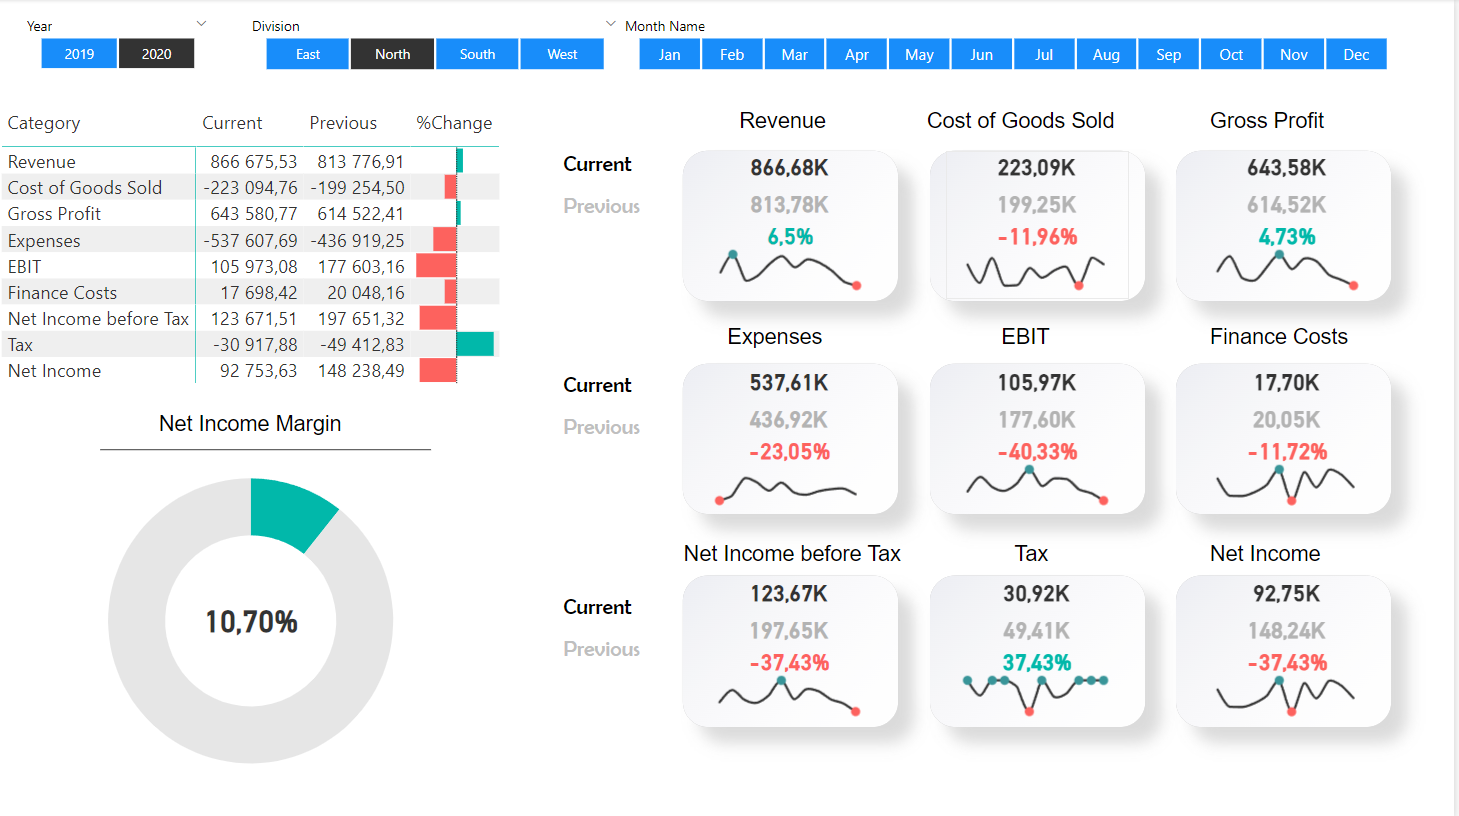

This screenshot's page, from the dashboard's own definition file:
{"tool":"powerbi","page":{"name":"Page 1","canvas":[1280,720],"ordinal":0},"visuals":[{"type":"pivotTable","fields":{"Values":["Journal.Current","Journal.Previous","Journal.%Change"],"Rows":["Layout.Category"]},"box":[0,91.4,480.5,280.1],"z":0},{"type":"card","fields":{"Values":["Journal.Revenue Current"]},"box":[617.6,133.3,158.5,28.2],"z":0,"group":"g1"},{"type":"card","fields":{"Values":["Journal.Gross Profit Current"]},"box":[1053.7,133.5,158.5,28.2],"z":0,"group":"g7"},{"type":"card","fields":{"Values":["Journal.Finance Costs Current"]},"box":[1053.3,322.1,158.4,28.3],"z":0,"group":"g8"},{"type":"card","fields":{"Values":["Journal.Expenses Current"]},"box":[616.4,322.2,158.5,28.2],"z":0,"group":"g2"},{"type":"card","fields":{"Values":["Journal.EBIT Current"]},"box":[834.1,322.2,158.5,28.2],"z":0,"group":"g5"},{"type":"card","fields":{"Values":["Journal.Net Income Current"]},"box":[1053.3,507.3,158.4,28.3],"z":0,"group":"g9"},{"type":"card","fields":{"Values":["Journal.Net Income before Tax Current"]},"box":[616.4,507.5,158.5,28.2],"z":0,"group":"g3"},{"type":"card","fields":{"Values":["Journal.Tax Current"]},"box":[834.1,507.5,158.5,28.2],"z":0,"group":"g4"},{"type":"slicer","fields":{"Values":["Calendar2.Year"]},"box":[13.6,9.7,183.8,58.4],"z":1000},{"type":"card","fields":{"Values":["Journal.Costs of Goods Sold Current"]},"box":[834.1,133.5,158.5,28.2],"z":1000,"group":"g6"},{"type":"card","fields":{"Values":["Journal.Revenue Previous"]},"box":[617.6,165.4,158.5,28.2],"z":1000,"group":"g1"},{"type":"card","fields":{"Values":["Journal.Gross Profit Previous"]},"box":[1053.7,165.6,158.5,28.2],"z":1000,"group":"g7"},{"type":"card","fields":{"Values":["Journal.Expenses Previous"]},"box":[616.4,354.3,158.5,28.2],"z":1000,"group":"g2"},{"type":"card","fields":{"Values":["Journal.EBIT Previous"]},"box":[834.1,354.3,158.5,28.2],"z":1000,"group":"g5"},{"type":"card","fields":{"Values":["Journal.Finance Costs Previous"]},"box":[1053.3,354.3,158.4,28.3],"z":1000,"group":"g8"},{"type":"card","fields":{"Values":["Journal.Net Income Previous"]},"box":[1053.3,539.5,158.4,28.3],"z":1000,"group":"g9"},{"type":"card","fields":{"Values":["Journal.Net Income before Tax Previous"]},"box":[616.4,539.6,158.5,28.2],"z":1000,"group":"g3"},{"type":"card","fields":{"Values":["Journal.Tax Previous"]},"box":[834.1,539.6,158.5,28.2],"z":1000,"group":"g4"},{"type":"card","fields":{"Values":["Journal.Cost of Goods Sold Previous"]},"box":[834.1,165.6,158.5,28.2],"z":2000,"group":"g6"},{"type":"card","fields":{"Values":["Journal.Revenue % Change"]},"box":[618.6,193.6,158.5,28.2],"z":2000,"group":"g1"},{"type":"card","fields":{"Values":["Journal.Gross Profit % Change"]},"box":[1054.7,193.8,158.5,28.2],"z":2000,"group":"g7"},{"type":"card","fields":{"Values":["Journal.Expenses % Change"]},"box":[617.4,382.5,158.5,28.2],"z":2000,"group":"g2"},{"type":"card","fields":{"Values":["Journal.EBIT % Change"]},"box":[835.1,382.5,158.5,28.2],"z":2000,"group":"g5"},{"type":"card","fields":{"Values":["Journal.Finance Costs % Change"]},"box":[1054.3,382.6,158.4,28.3],"z":2000,"group":"g8"},{"type":"donutChart","fields":{"Y":["Journal.Net Income Margin","Journal.Inv Net Margin"]},"box":[28.2,384.2,391,322.9],"z":2000},{"type":"card","fields":{"Values":["Journal.Net Income before Tax % Change"]},"box":[617.4,567.8,158.5,28.2],"z":2000,"group":"g3"},{"type":"card","fields":{"Values":["Journal.Tax % Change"]},"box":[835.1,567.8,158.5,28.2],"z":2000,"group":"g4"},{"type":"card","fields":{"Values":["Journal.Net Income % Change"]},"box":[1054.3,567.8,158.4,28.3],"z":2000,"group":"g9"},{"type":"PBI_CV_25997FEB_F466_44FA_B562_AC4063283C4C","fields":{"measure":["Journal.Revenue"],"axis":["Calendar2.Month Name"]},"box":[618.6,207.2,159.5,55.4],"z":3000,"group":"g1"},{"type":"PBI_CV_25997FEB_F466_44FA_B562_AC4063283C4C","fields":{"measure":["Journal.Gross Profit"],"axis":["Calendar2.Month Name"]},"box":[1054.7,207.4,159.5,55.4],"z":3000,"group":"g7"},{"type":"PBI_CV_25997FEB_F466_44FA_B562_AC4063283C4C","fields":{"measure":["Journal.Expenses"],"axis":["Calendar2.Month Name"]},"box":[617.4,396.1,159.5,55.4],"z":3000,"group":"g2"},{"type":"PBI_CV_25997FEB_F466_44FA_B562_AC4063283C4C","fields":{"measure":["Journal.EBIT"],"axis":["Calendar2.Month Name"]},"box":[835.1,396.1,159.5,55.4],"z":3000,"group":"g5"},{"type":"PBI_CV_25997FEB_F466_44FA_B562_AC4063283C4C","fields":{"measure":["Journal.Finance Costs"],"axis":["Calendar2.Month Name"]},"box":[1054.3,396.2,159.4,55.6],"z":3000,"group":"g8"},{"type":"card","fields":{"Values":["Journal.Net Income Margin"]},"box":[152.7,507.7,142,74.9],"z":3000},{"type":"PBI_CV_25997FEB_F466_44FA_B562_AC4063283C4C","fields":{"measure":["Journal.Net Income before Tax"],"axis":["Calendar2.Month Name"]},"box":[617.4,581.4,159.5,55.4],"z":3000,"group":"g3"},{"type":"PBI_CV_25997FEB_F466_44FA_B562_AC4063283C4C","fields":{"measure":["Journal.TAX"],"axis":["Calendar2.Month Name"]},"box":[835.1,581.4,159.5,55.4],"z":3000,"group":"g4"},{"type":"PBI_CV_25997FEB_F466_44FA_B562_AC4063283C4C","fields":{"measure":["Journal.Finance Costs"],"axis":["Calendar2.Month Name"]},"box":[1054.3,581.4,159.4,55.6],"z":3000,"group":"g9"},{"type":"group","id":"g1","title":"Group 1","box":[617.6,133.3,160.5,129.4],"z":4000},{"type":"card","fields":{"Values":["Journal.Cost of Goods Sold % Change"]},"box":[835.1,193.8,158.5,28.2],"z":4000,"group":"g6"},{"type":"group","id":"g2","title":"Group 1","box":[616.4,322.2,160.7,129.1],"z":5000},{"type":"PBI_CV_25997FEB_F466_44FA_B562_AC4063283C4C","fields":{"axis":["Calendar2.Month Name"],"measure":["Journal.Cost of Goods Sold"]},"box":[835.1,207.4,159.5,55.4],"z":6000,"group":"g6"},{"type":"group","id":"g3","title":"Group 1","box":[616.4,507.5,160.7,129.1],"z":6000},{"type":"group","id":"g4","title":"Group 1","box":[834.1,507.5,160.7,129.1],"z":7000},{"type":"group","id":"g5","title":"Group 1","box":[834.1,322.2,160.7,129.1],"z":8000},{"type":"group","id":"g6","title":"Group 2","box":[834.1,133.5,160.7,130],"z":9000},{"type":"group","id":"g7","title":"Group 1","box":[1053.7,133.5,160.7,129.1],"z":10000},{"type":"group","id":"g8","title":"Group 1","box":[1053.3,322.1,160.6,129.4],"z":11000},{"type":"group","id":"g9","title":"Group 1","box":[1053.3,507.3,160.6,129.4],"z":12000},{"type":"slicer","fields":{"Values":["Division.Division"]},"box":[211.6,9.4,345.7,58.6],"z":13000},{"type":"slicer","fields":{"Values":["Calendar2.Month Name"]},"box":[539.4,9.4,705.7,58.6],"z":14000}]}

Visuals, with their boxes in screenshot pixels (x1, y1, x2, y2), scaled from the page's 1280x720 canvas onto the 1459x816 screenshot:
pivotTable - Journal.Current x Journal.Previous: box=[0, 104, 548, 421]
card - Journal.Revenue Current: box=[704, 151, 885, 183]
card - Journal.Gross Profit Current: box=[1201, 151, 1382, 183]
card - Journal.Finance Costs Current: box=[1201, 365, 1381, 397]
card - Journal.Expenses Current: box=[703, 365, 883, 397]
card - Journal.EBIT Current: box=[951, 365, 1131, 397]
card - Journal.Net Income Current: box=[1201, 575, 1381, 607]
card - Journal.Net Income before Tax Current: box=[703, 575, 883, 607]
card - Journal.Tax Current: box=[951, 575, 1131, 607]
slicer - Calendar2.Year: box=[16, 11, 225, 77]
card - Journal.Costs of Goods Sold Current: box=[951, 151, 1131, 183]
card - Journal.Revenue Previous: box=[704, 187, 885, 219]
card - Journal.Gross Profit Previous: box=[1201, 188, 1382, 220]
card - Journal.Expenses Previous: box=[703, 402, 883, 434]
card - Journal.EBIT Previous: box=[951, 402, 1131, 434]
card - Journal.Finance Costs Previous: box=[1201, 402, 1381, 434]
card - Journal.Net Income Previous: box=[1201, 611, 1381, 644]
card - Journal.Net Income before Tax Previous: box=[703, 612, 883, 644]
card - Journal.Tax Previous: box=[951, 612, 1131, 644]
card - Journal.Cost of Goods Sold Previous: box=[951, 188, 1131, 220]
card - Journal.Revenue % Change: box=[705, 219, 886, 251]
card - Journal.Gross Profit % Change: box=[1202, 220, 1383, 252]
card - Journal.Expenses % Change: box=[704, 434, 884, 465]
card - Journal.EBIT % Change: box=[952, 434, 1133, 465]
card - Journal.Finance Costs % Change: box=[1202, 434, 1382, 466]
donutChart - Journal.Net Income Margin x Journal.Inv Net Margin: box=[32, 435, 478, 801]
card - Journal.Net Income before Tax % Change: box=[704, 644, 884, 675]
card - Journal.Tax % Change: box=[952, 644, 1133, 675]
card - Journal.Net Income % Change: box=[1202, 644, 1382, 676]
PBI_CV_25997FEB_F466_44FA_B562_AC4063283C4C - Journal.Revenue x Calendar2.Month Name: box=[705, 235, 887, 298]
PBI_CV_25997FEB_F466_44FA_B562_AC4063283C4C - Journal.Gross Profit x Calendar2.Month Name: box=[1202, 235, 1384, 298]
PBI_CV_25997FEB_F466_44FA_B562_AC4063283C4C - Journal.Expenses x Calendar2.Month Name: box=[704, 449, 886, 512]
PBI_CV_25997FEB_F466_44FA_B562_AC4063283C4C - Journal.EBIT x Calendar2.Month Name: box=[952, 449, 1134, 512]
PBI_CV_25997FEB_F466_44FA_B562_AC4063283C4C - Journal.Finance Costs x Calendar2.Month Name: box=[1202, 449, 1383, 512]
card - Journal.Net Income Margin: box=[174, 575, 336, 660]
PBI_CV_25997FEB_F466_44FA_B562_AC4063283C4C - Journal.Net Income before Tax x Calendar2.Month Name: box=[704, 659, 886, 722]
PBI_CV_25997FEB_F466_44FA_B562_AC4063283C4C - Journal.TAX x Calendar2.Month Name: box=[952, 659, 1134, 722]
PBI_CV_25997FEB_F466_44FA_B562_AC4063283C4C - Journal.Finance Costs x Calendar2.Month Name: box=[1202, 659, 1383, 722]
"Group 1" group: box=[704, 151, 887, 298]
card - Journal.Cost of Goods Sold % Change: box=[952, 220, 1133, 252]
"Group 1" group: box=[703, 365, 886, 511]
PBI_CV_25997FEB_F466_44FA_B562_AC4063283C4C - Calendar2.Month Name x Journal.Cost of Goods Sold: box=[952, 235, 1134, 298]
"Group 1" group: box=[703, 575, 886, 721]
"Group 1" group: box=[951, 575, 1134, 721]
"Group 1" group: box=[951, 365, 1134, 511]
"Group 2" group: box=[951, 151, 1134, 299]
"Group 1" group: box=[1201, 151, 1384, 298]
"Group 1" group: box=[1201, 365, 1384, 512]
"Group 1" group: box=[1201, 575, 1384, 722]
slicer - Division.Division: box=[241, 11, 635, 77]
slicer - Calendar2.Month Name: box=[615, 11, 1419, 77]
